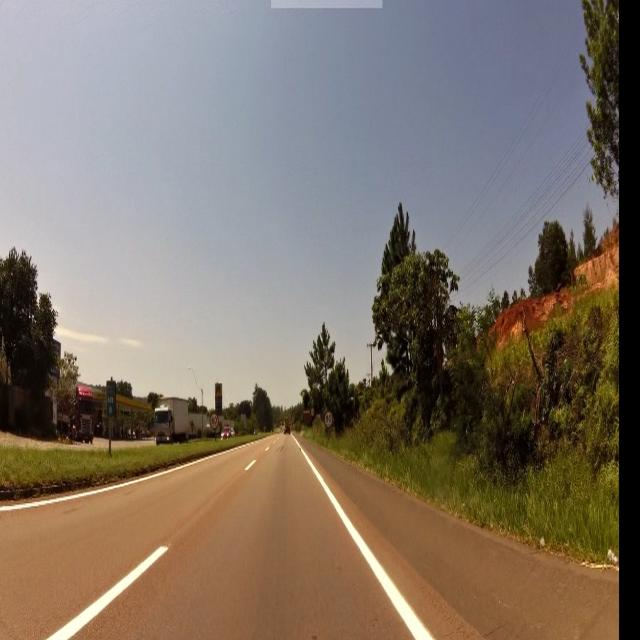R-19: (210, 412, 220, 432), (324, 411, 334, 429)
